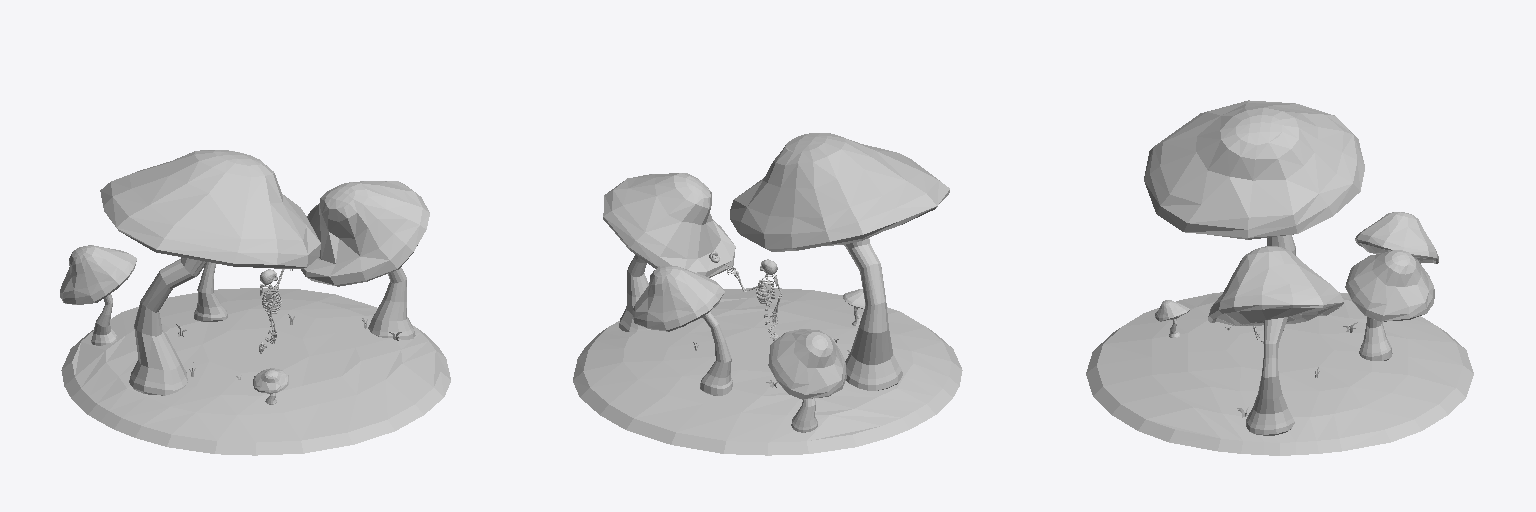
The model's file is MayaObjWithMats.obj.
3 views of the same model, side by side, from view 1: azimuth 30°, elevation 25°; view 2: azimuth 150°, elevation 25°; view 3: azimuth 270°, elevation 25° (orthographic).
Parts seen in each view (by area): view 1: pCube1, Mushroom3, Mushroom, Mushroom1, Mushroom2, Mushroom4; view 2: pCube1, Mushroom3, Mushroom, Mushroom2, Mushroom1; view 3: pCube1, Mushroom3, Mushroom, Mushroom2, Mushroom1, Mushroom4.
Boxes of the visible parts, x1=… form: pCube1: x1=61, y1=288, x2=450, y2=455; Mushroom3: x1=100, y1=150, x2=320, y2=395; Mushroom: x1=301, y1=181, x2=429, y2=339; Mushroom1: x1=60, y1=245, x2=136, y2=345; Mushroom2: x1=194, y1=262, x2=227, y2=321; Mushroom4: x1=253, y1=368, x2=288, y2=404; pCube1: x1=573, y1=288, x2=962, y2=455; Mushroom3: x1=730, y1=133, x2=949, y2=390; Mushroom: x1=603, y1=173, x2=735, y2=331; Mushroom2: x1=632, y1=266, x2=732, y2=395; Mushroom1: x1=768, y1=329, x2=846, y2=432; pCube1: x1=1086, y1=292, x2=1473, y2=455; Mushroom3: x1=1144, y1=100, x2=1364, y2=255; Mushroom: x1=1208, y1=246, x2=1343, y2=435; Mushroom2: x1=1345, y1=250, x2=1434, y2=360; Mushroom1: x1=1355, y1=212, x2=1438, y2=263; Mushroom4: x1=1155, y1=300, x2=1189, y2=337.
Bounding box in the file's own units: 26.09 × 17.53 × 26.09.